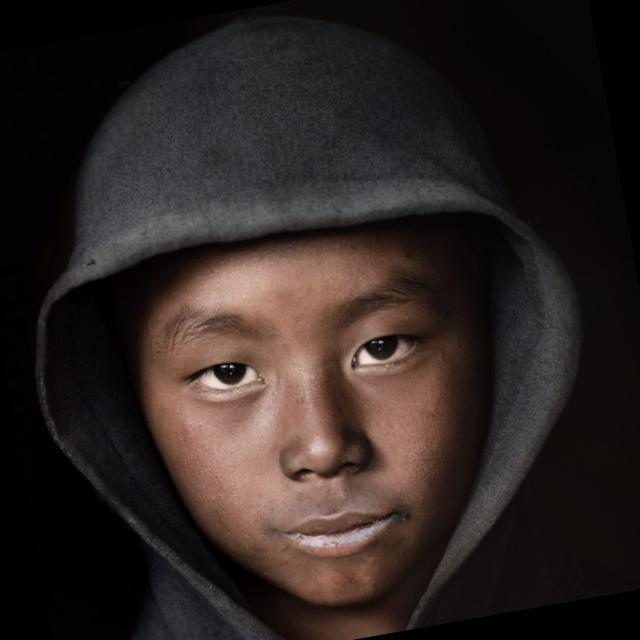face: (103, 194, 564, 640)
